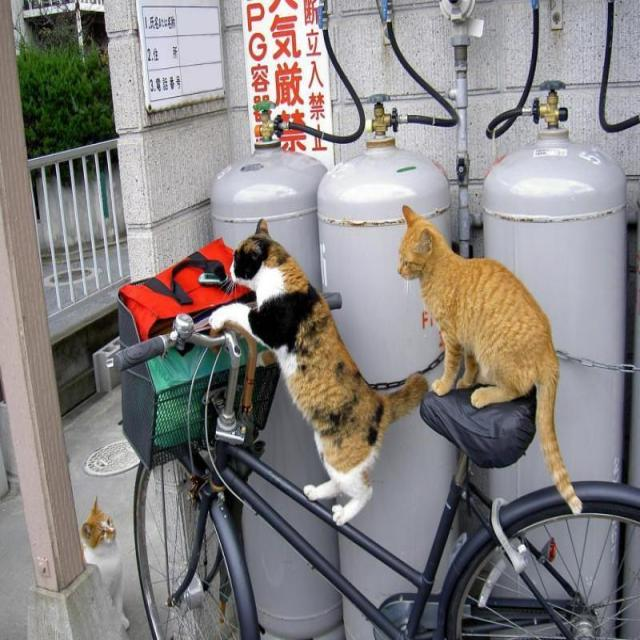cat: (192, 199, 608, 529)
